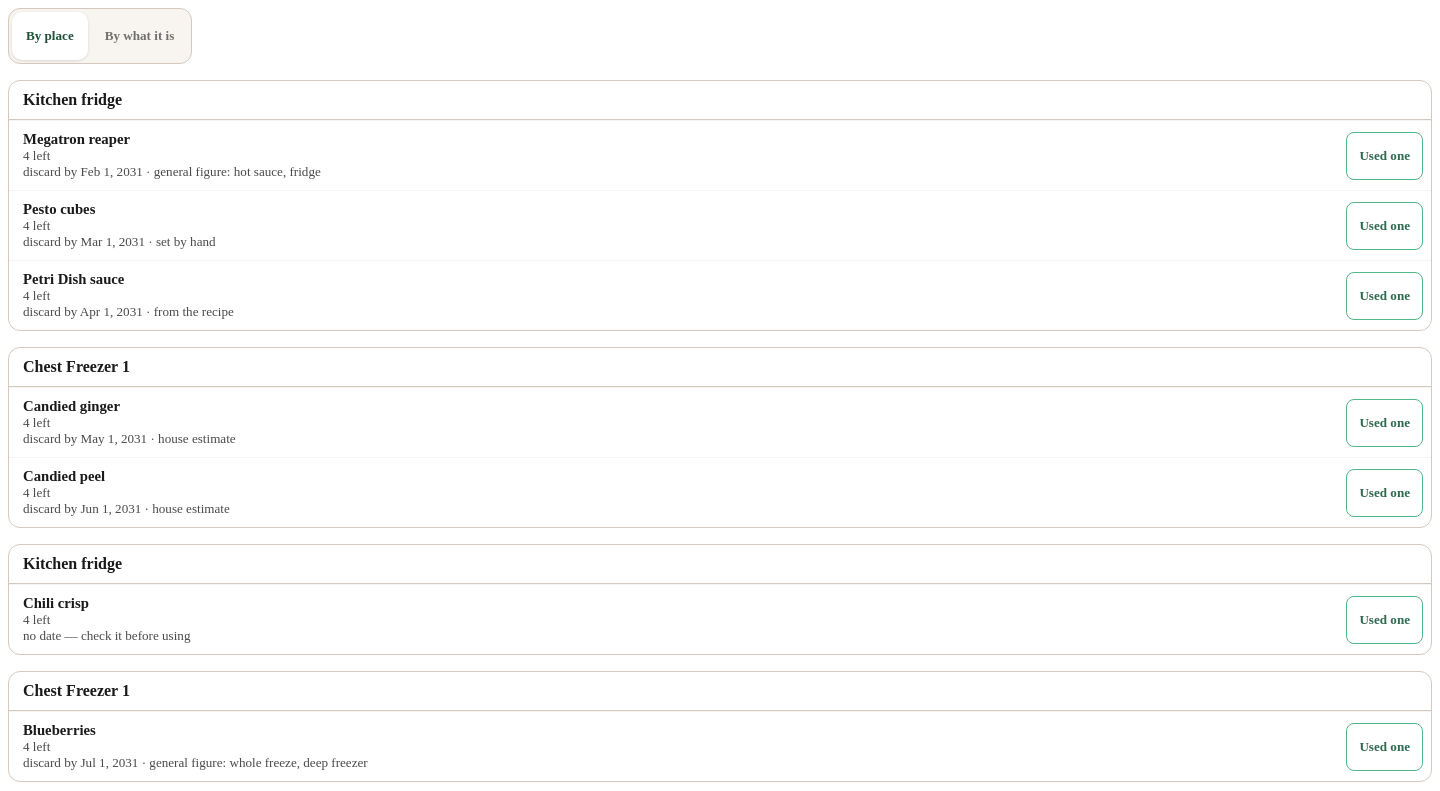
Scenario: after the move — one line at the top of the Pantry, from the row the server answered › a worked-out date at another kind of place: the line says the date is gone — the server's words, not the hint's
This screenshot has width=1440, height=791.
Step 1. Click the button with test id "pantry-row-open-put_up:jar-t" → x=76, y=139, box [17,125,1338,186]
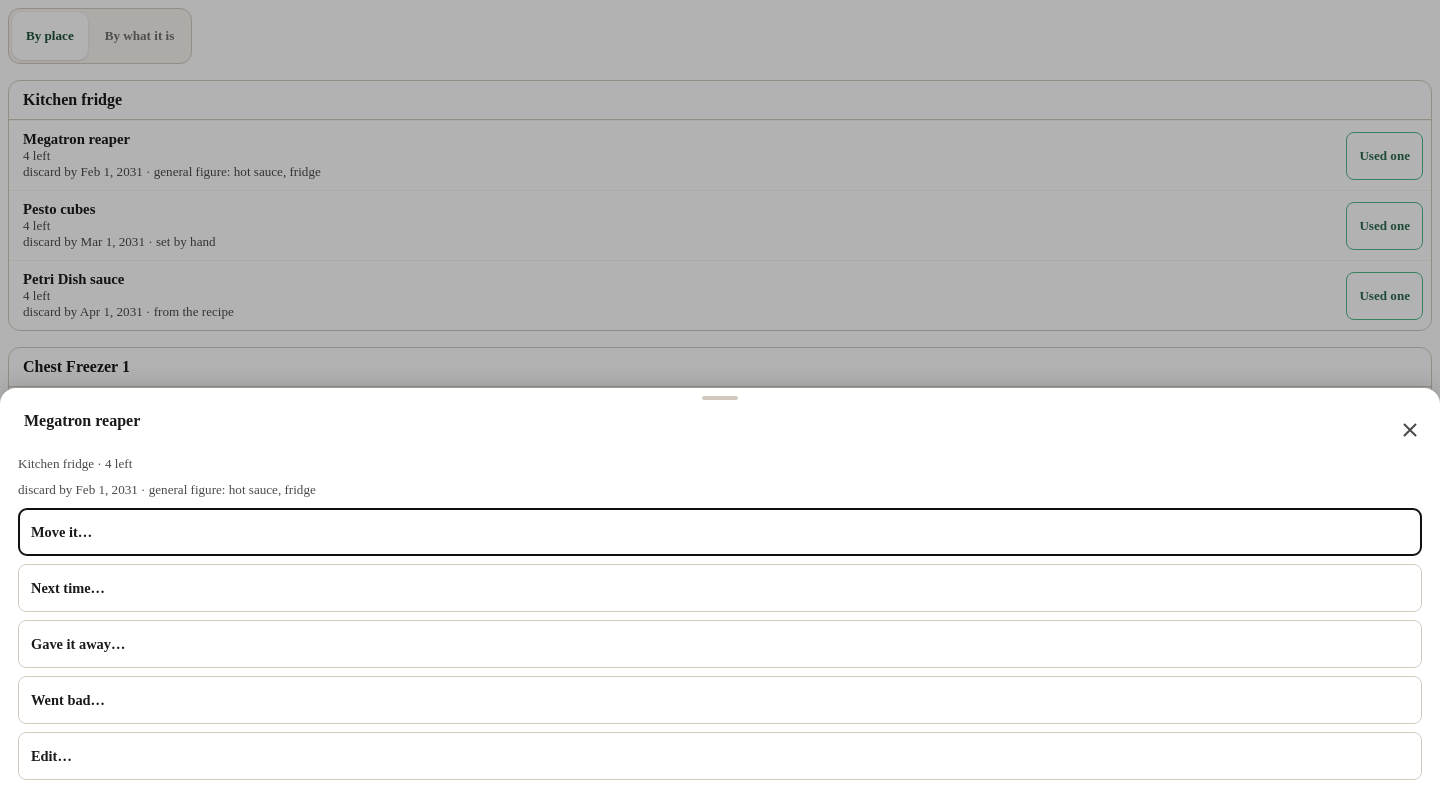
Step 2. Click the button with test id "row-move" → x=62, y=532, box [18,508,1422,556]
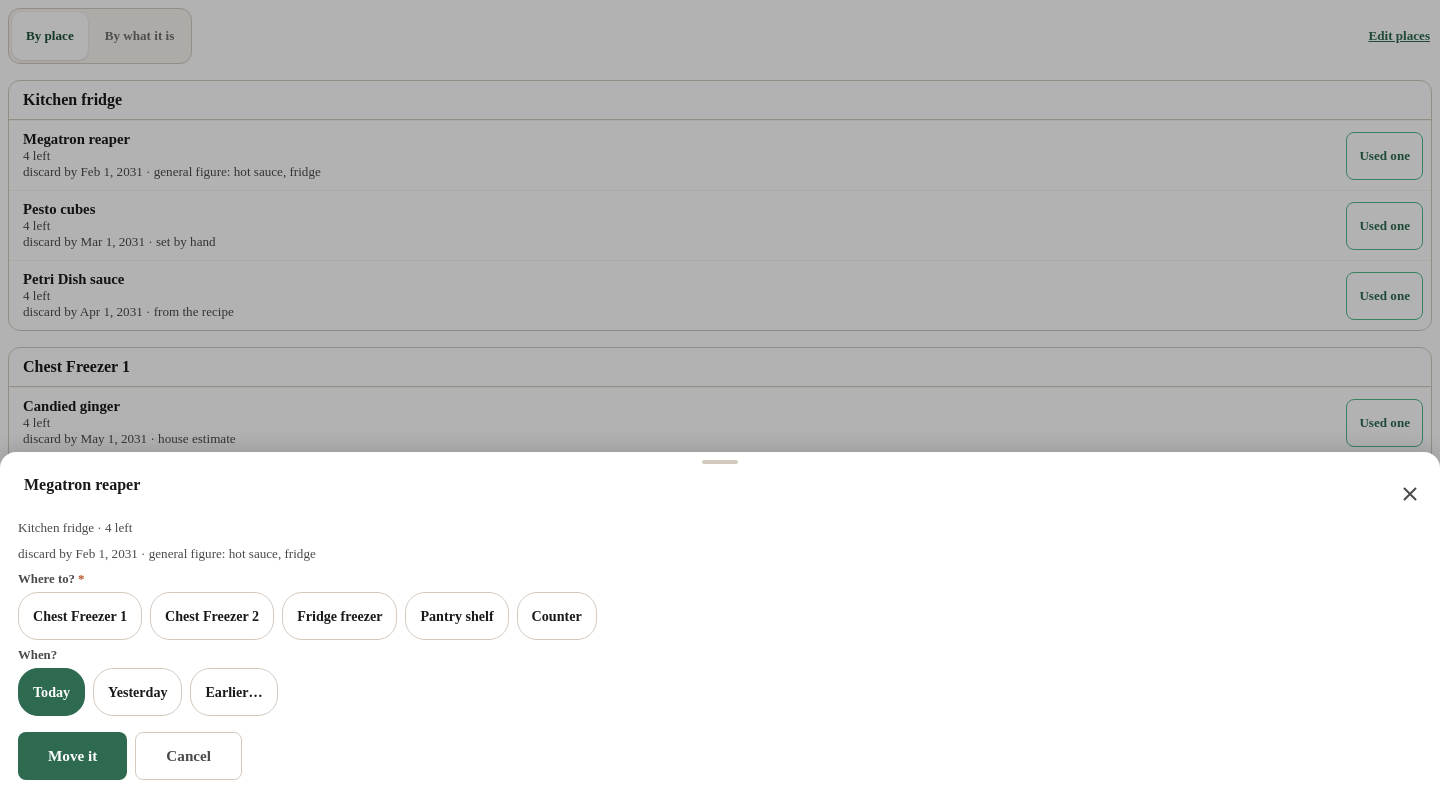
Step 3. Click the radio button with test id "move-place-id:loc-1" → x=80, y=616, box [18,592,142,640]
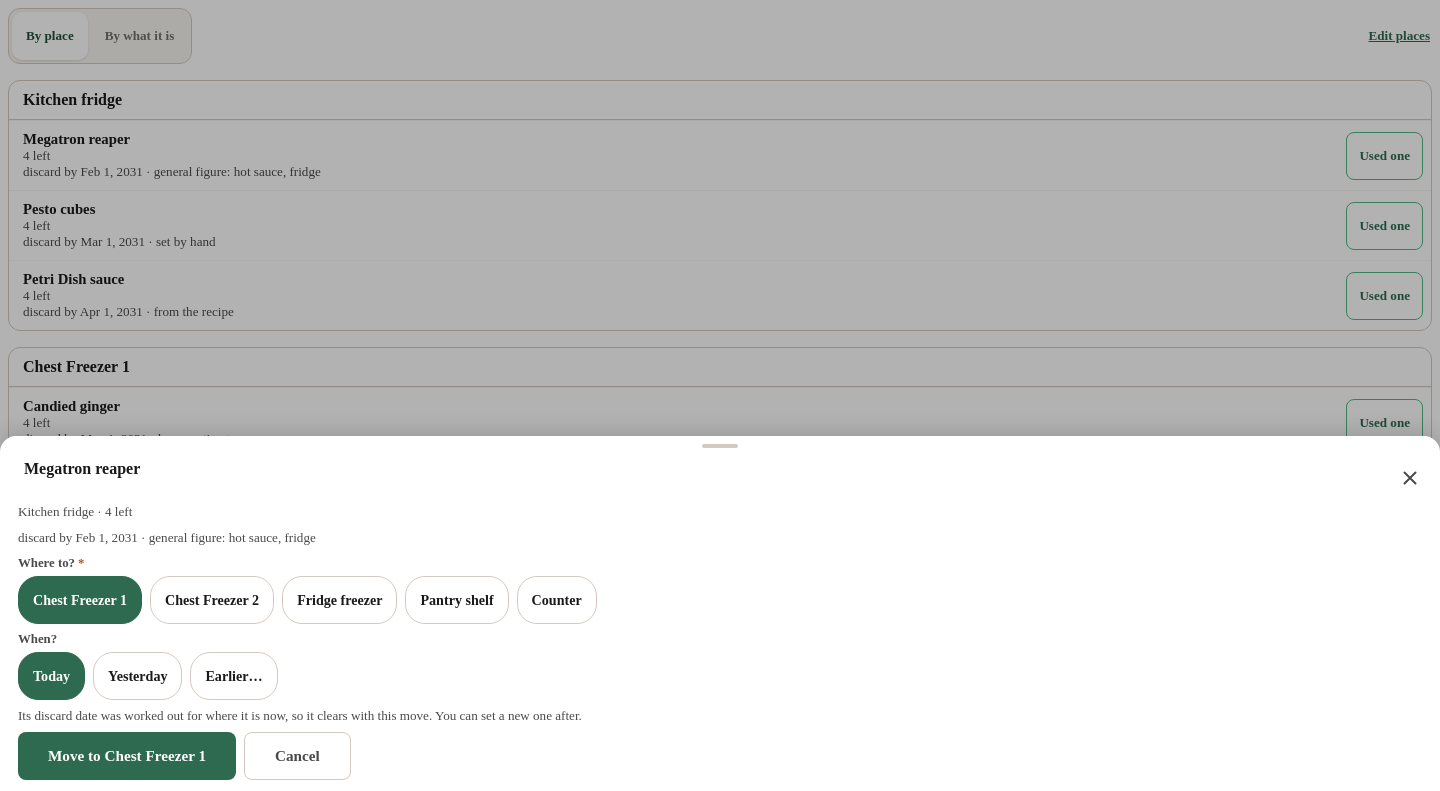
Step 4. Click the button with test id "move-save" → x=127, y=756, box [18,732,236,780]
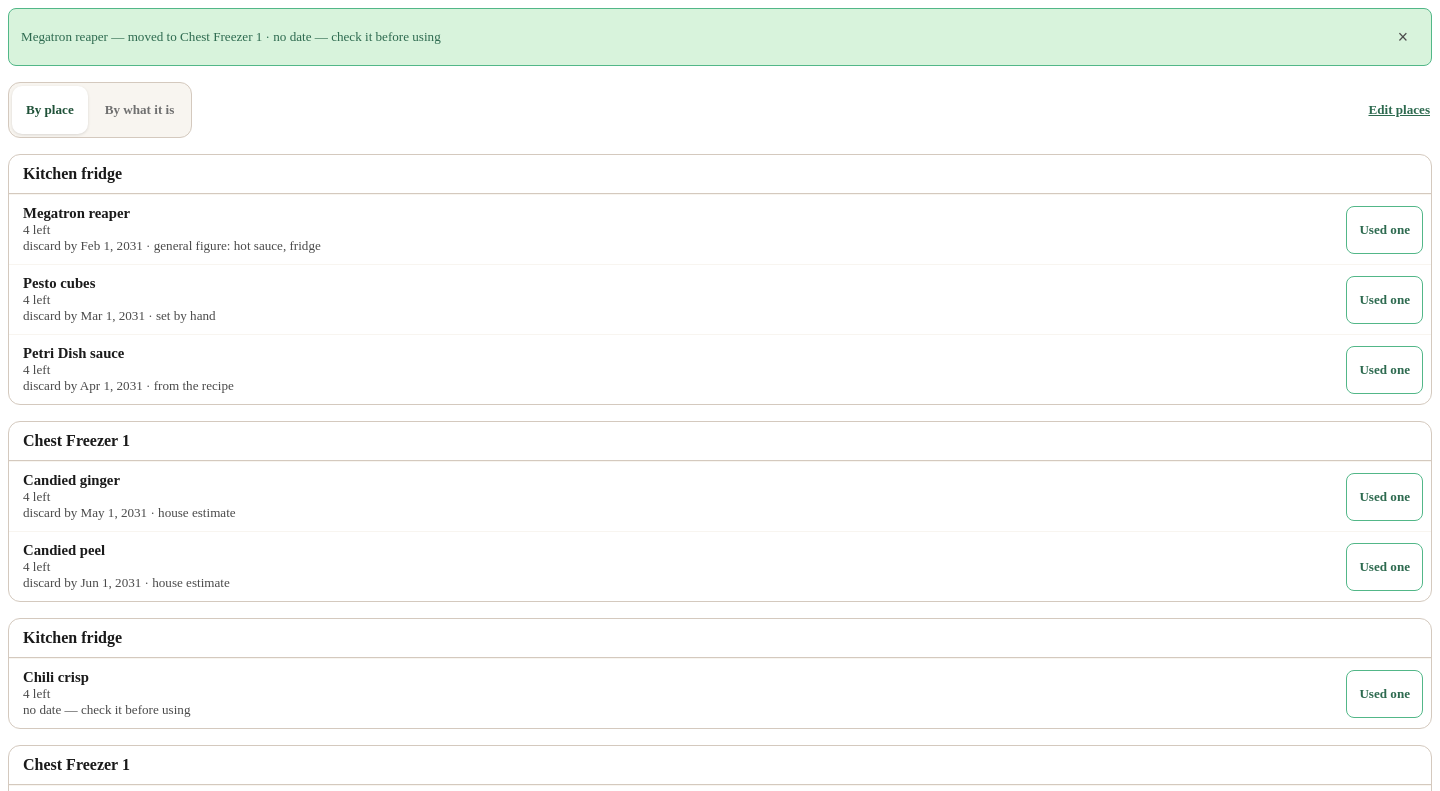
Result: the text "Megatron reaper — moved to Chest Freezer 1 · no date — check it before using" is shown at [21,29,441,44]
